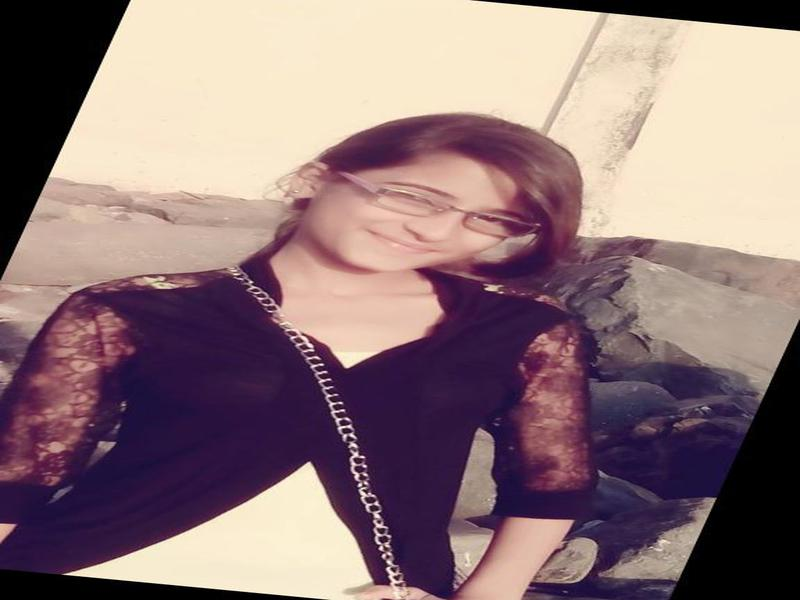without_mask: (316, 127, 531, 282)
